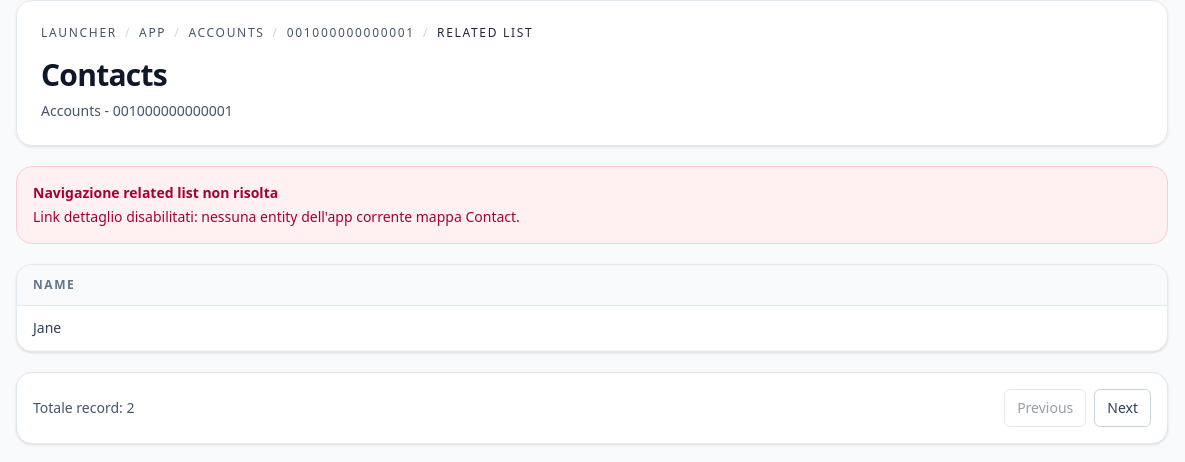
EntityRelatedListPage › navigates forward and backward using cursor requests
The width and height of the screenshot is (1185, 462).
expect the text "Jane" is shown: met, box 17,306 -> 1167,351
Step 1. Click the button "Next" → [1123, 408], box 1094,389 -> 1151,427
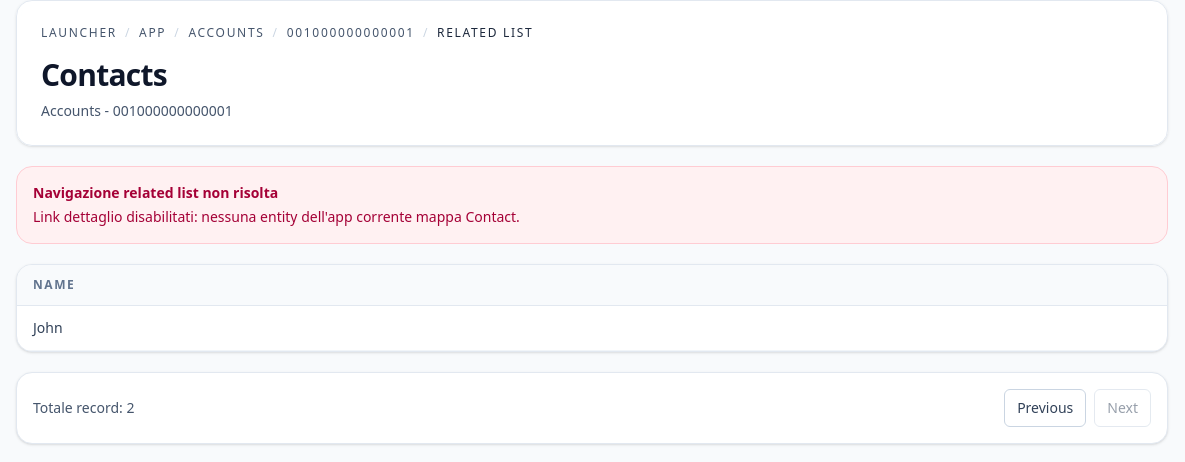
expect the text "John" is shown: met, box 17,306 -> 1167,351
Step 2. Click the button "Previous" → [1045, 408], box 1004,389 -> 1086,427
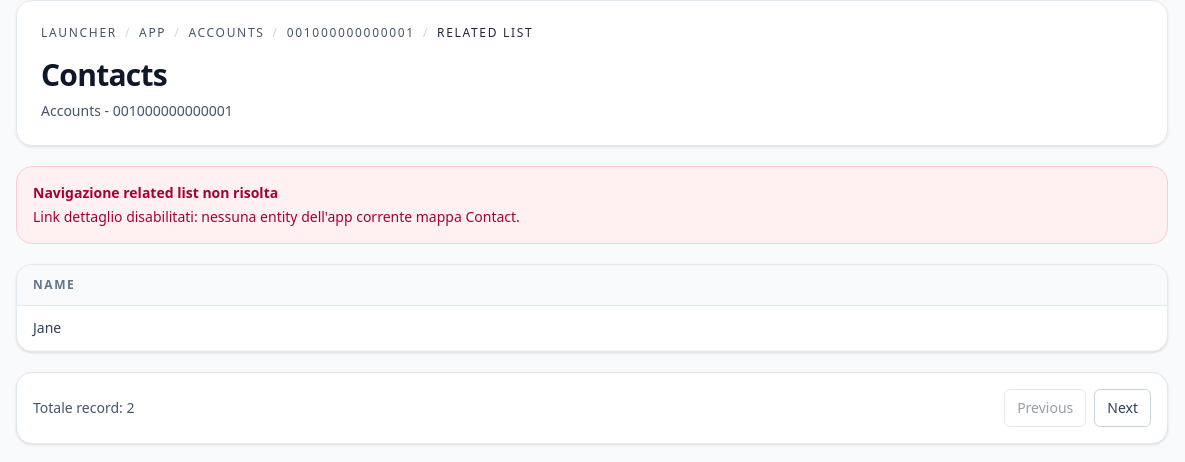
expect the text "Jane" is shown: met, box 17,306 -> 1167,351
